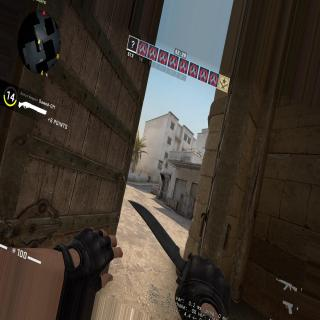CT-Body: (148, 175, 150, 182)
CT-Head: (148, 175, 150, 177)
